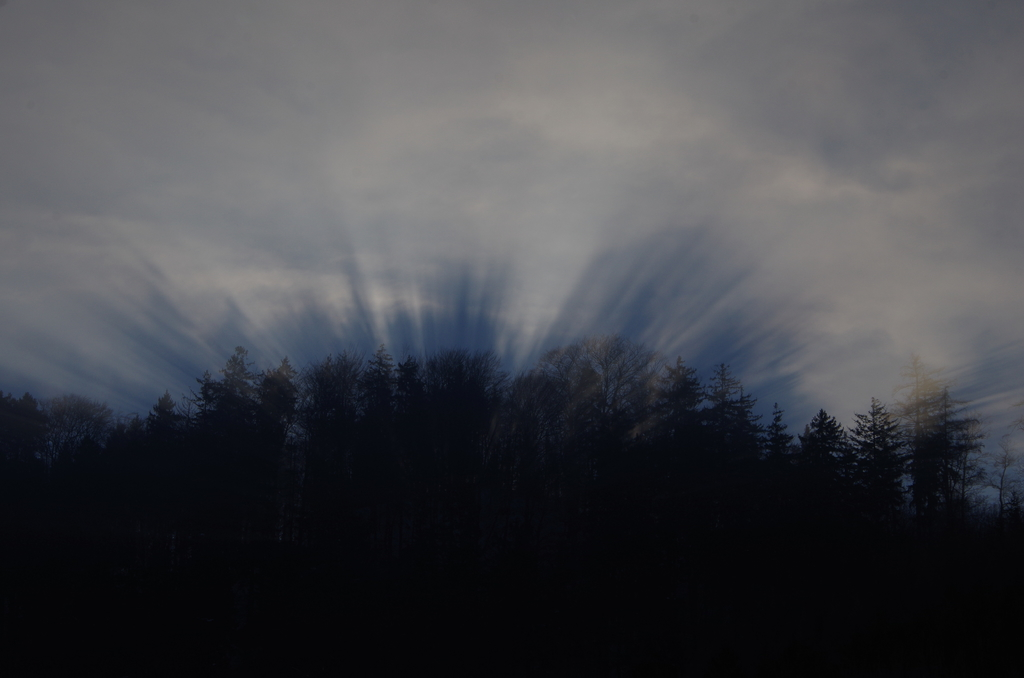Tree: (0, 337, 1023, 677)
